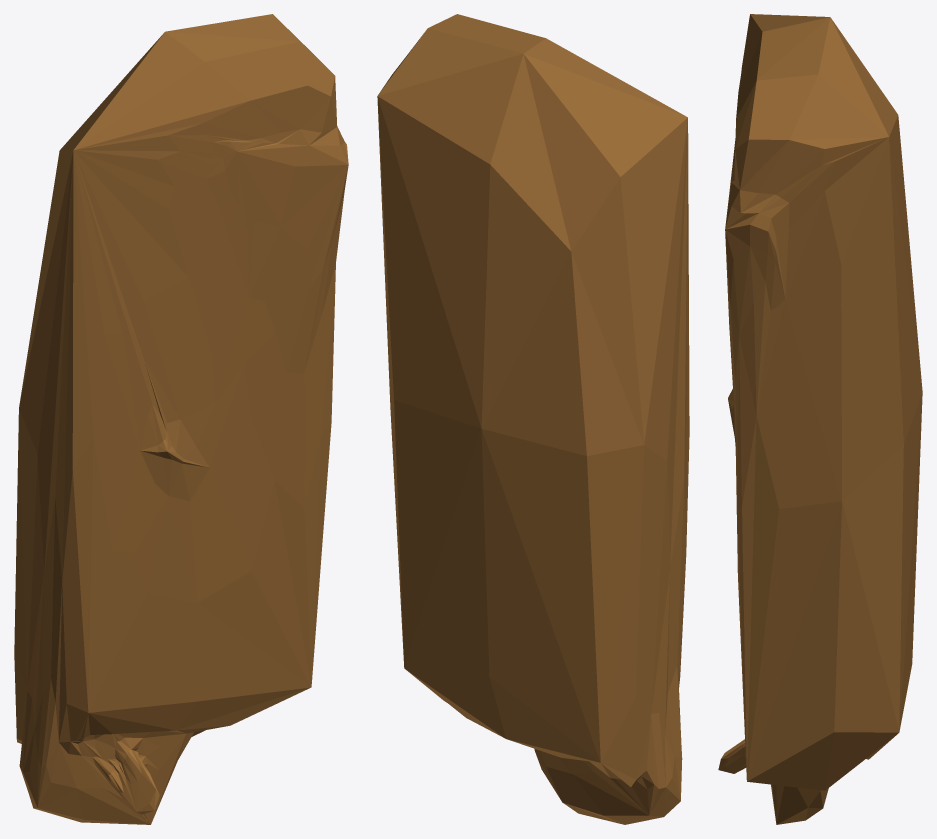
3 views of the same model, side by side, from view 1: azimuth 30°, elevation 25°; view 2: azimuth 150°, elevation 25°; view 3: azimuth 270°, elevation 25° (orthographic). The views are drawn at different scales.
Visible parts, largest first — view 1: 401_Cube.1626; view 2: 401_Cube.1626; view 3: 401_Cube.1626.
Boxes of the visible parts, box(x1,y1,x2,y2) form: 401_Cube.1626: box(14, 14, 348, 824); 401_Cube.1626: box(377, 14, 689, 824); 401_Cube.1626: box(718, 14, 922, 824).
Size of the model in its own units: 5.22 by 13.26 by 2.96.
